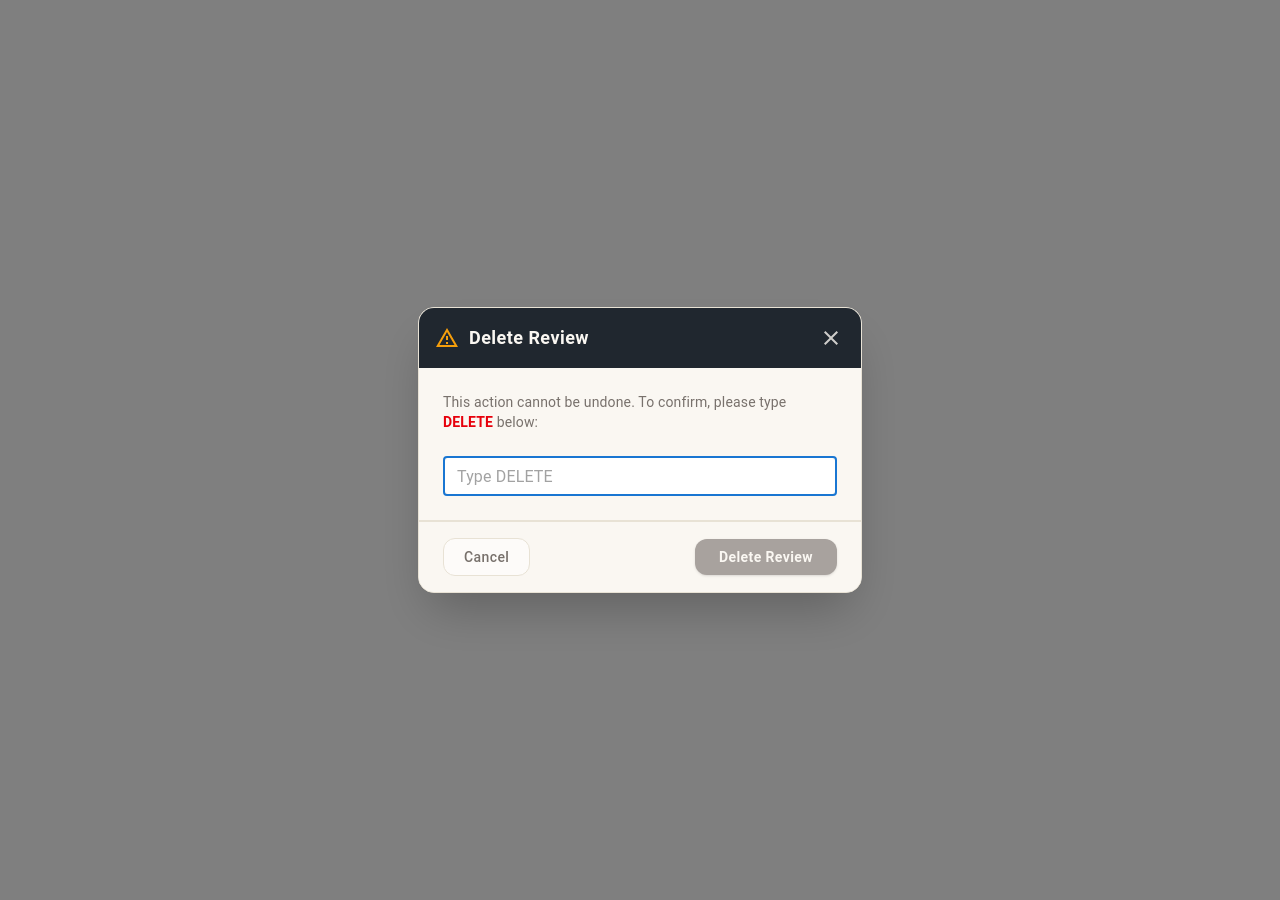
Test: DeleteReviewModal › should enable confirm button when DELETE is typed
Type "DELETE" into the field with placeholder "Type DELETE". click: (640, 476)
box: [443,456,837,496]
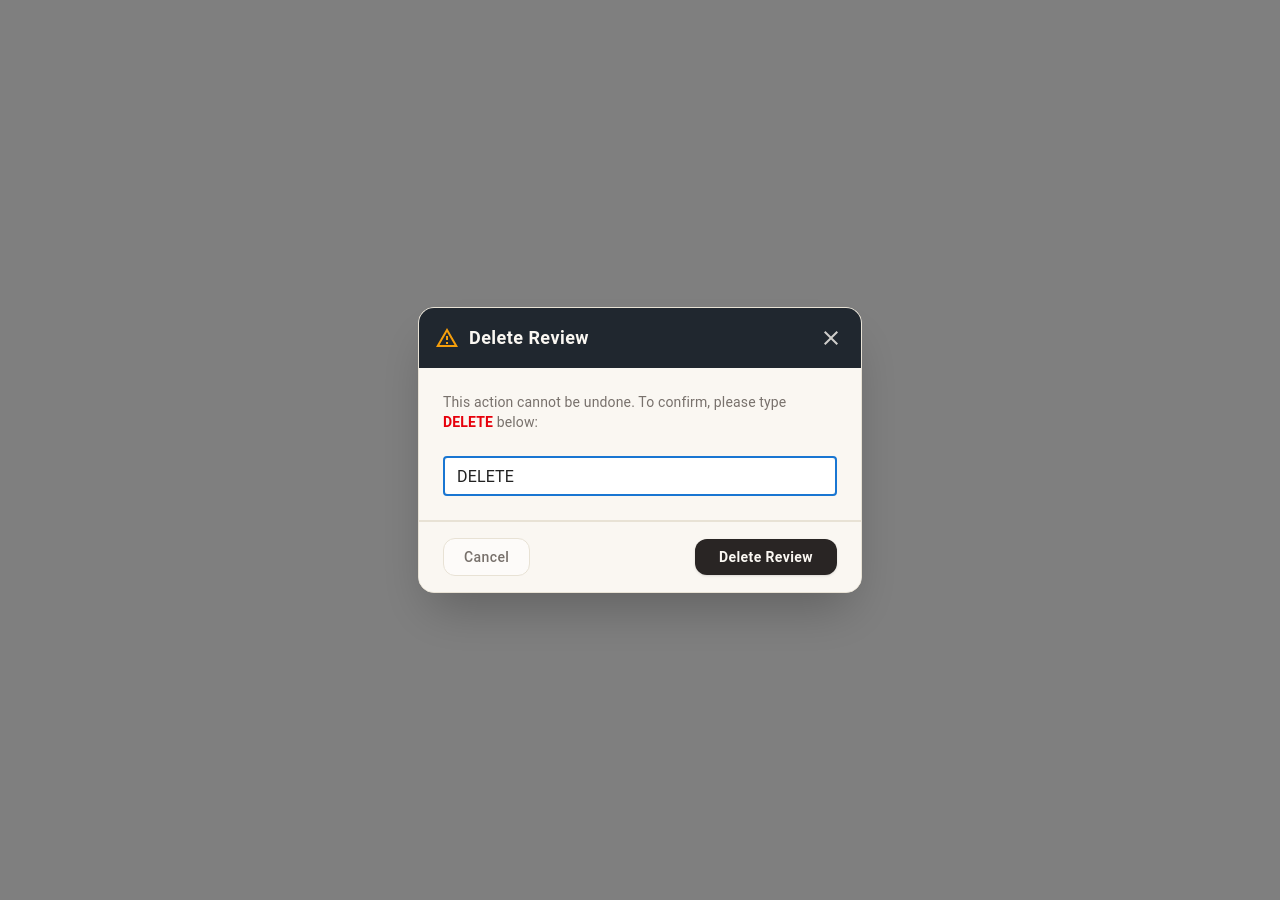
Result: the button "Delete Review" is enabled at [695,539,837,575]
